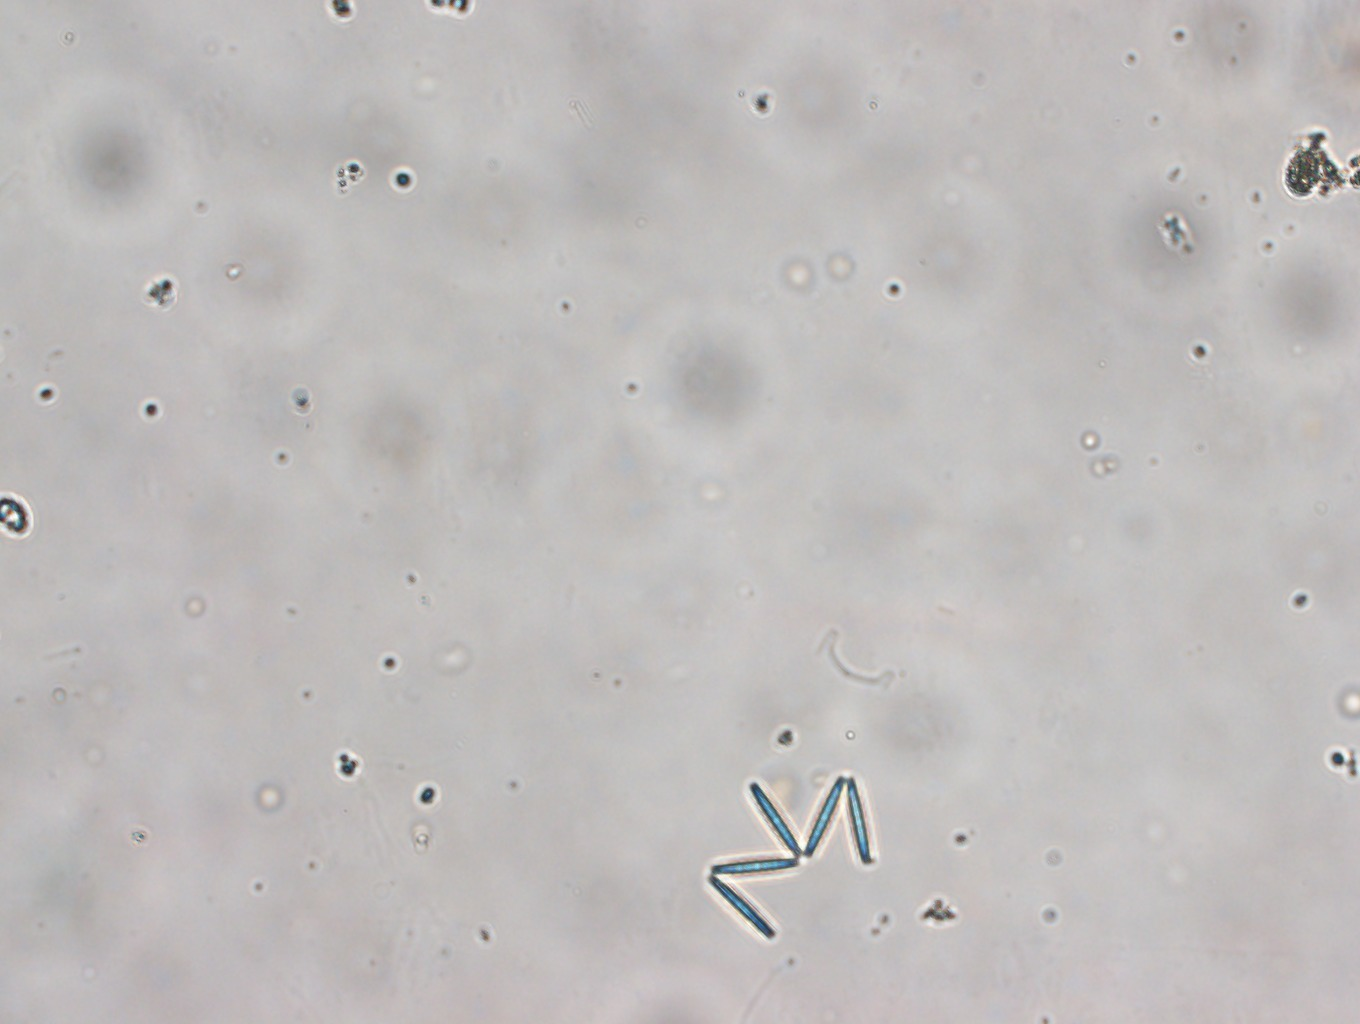thalassionema nitzschioides: (705, 776, 875, 941)
